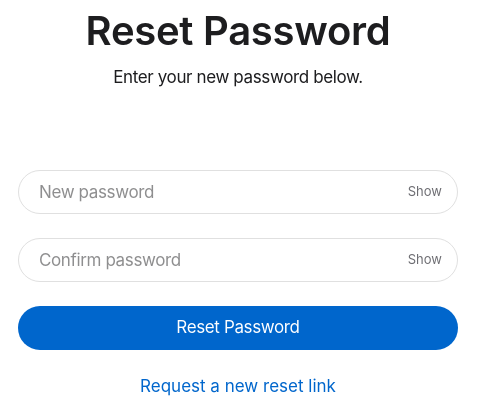
ResetPasswordPage - Validation › should disable button while loading
In the password field with placeholder "New password": (238,192) [18,170,458,214], type "newpassword123"
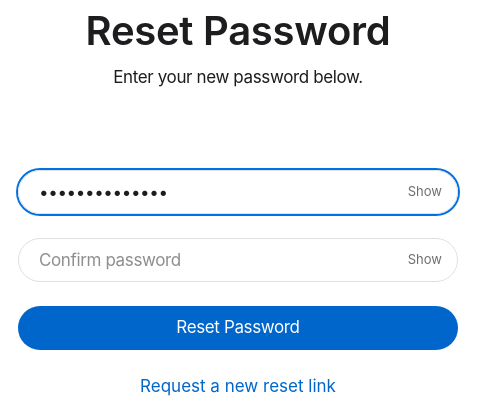
In the password field with placeholder "Confirm password": (238,260) [18,238,458,282], type "newpassword123"
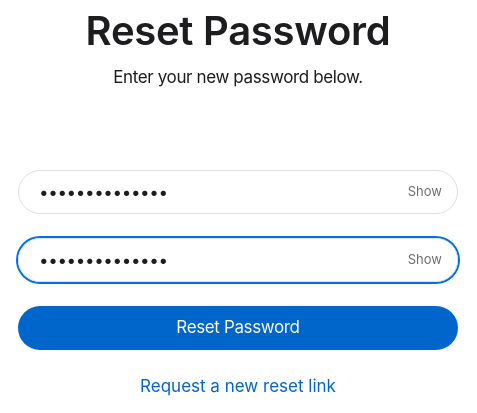
Click the button "Reset Password": (238,328) [18,306,458,350]
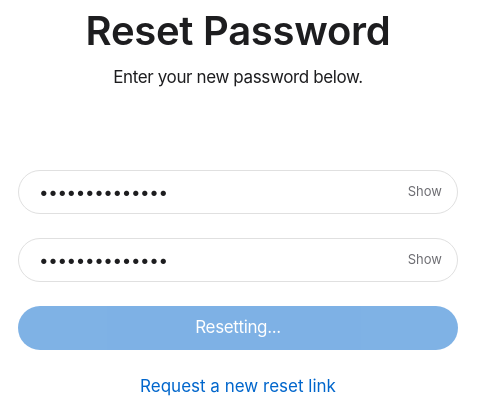
Expected: the button named "reset password" is disabled, [18,306,458,350]
